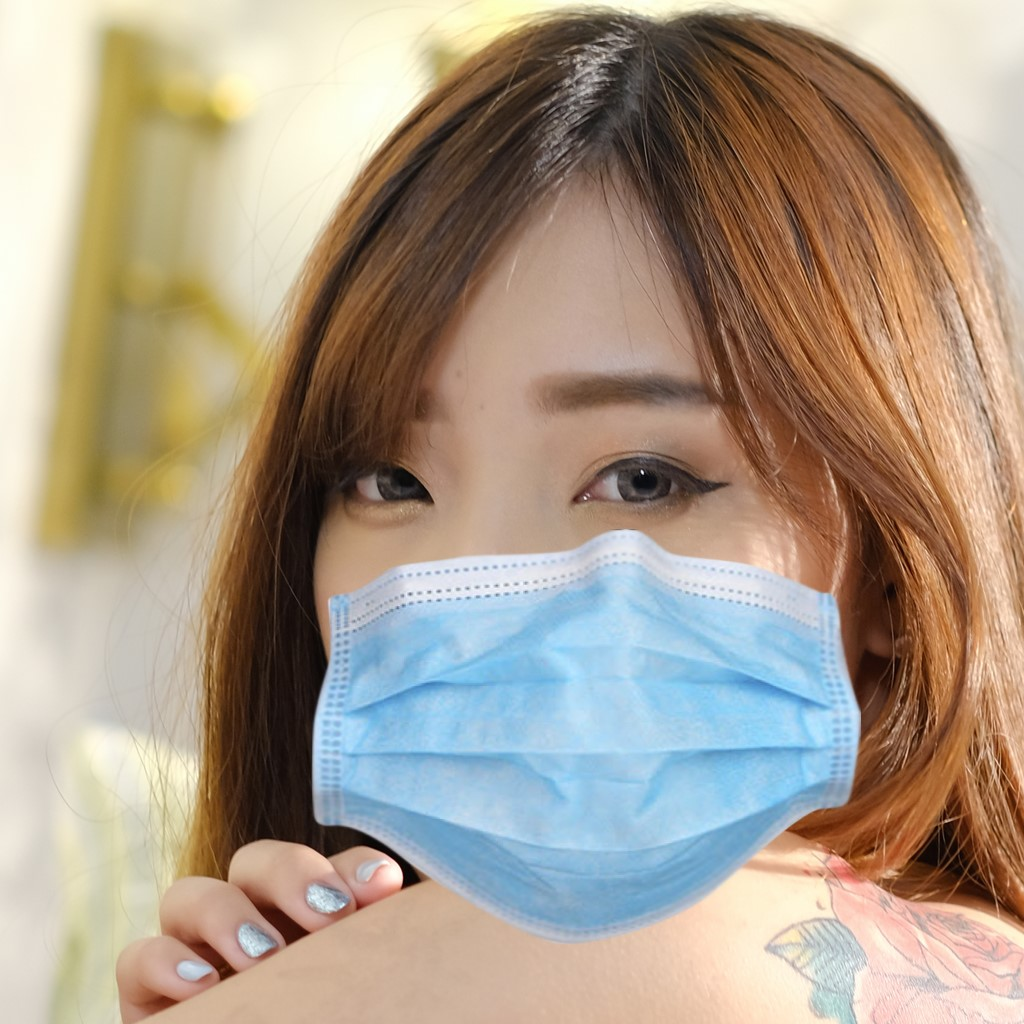con_mascara: (297, 177, 869, 914)
